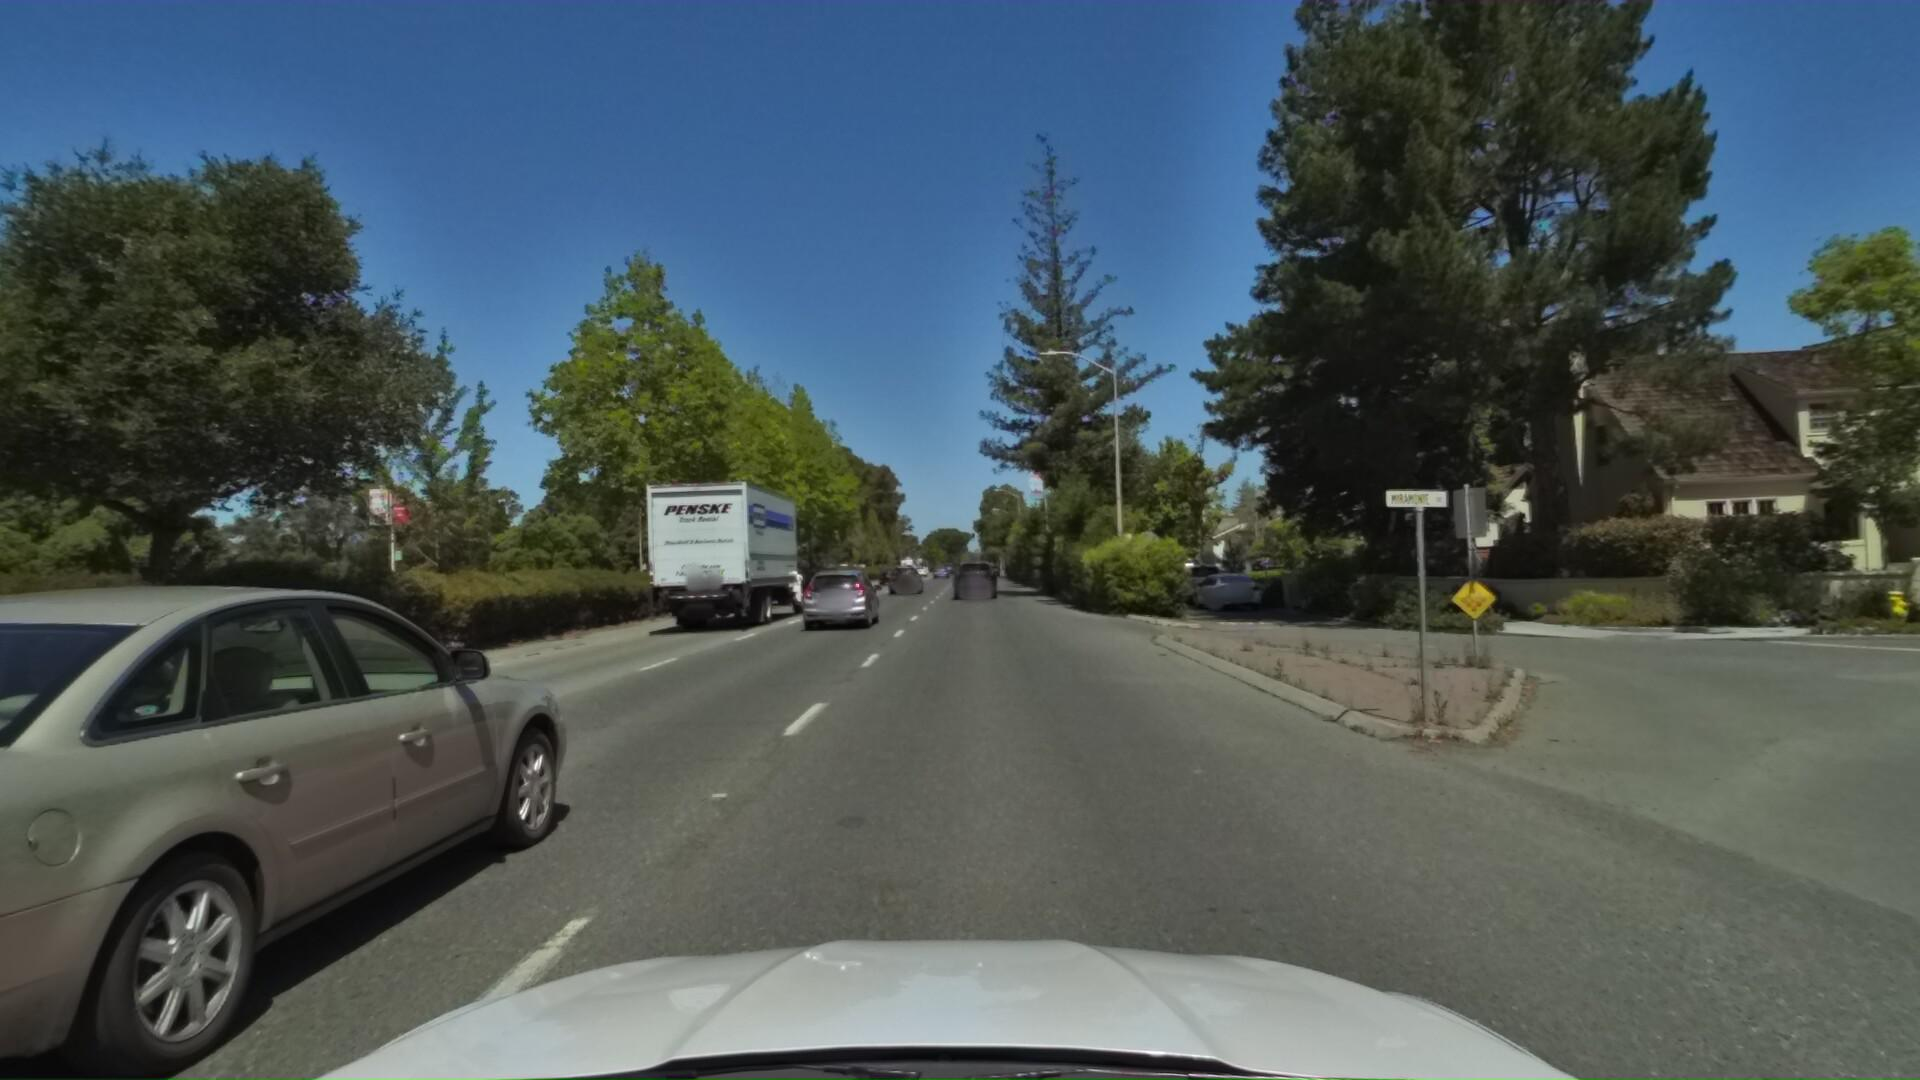car: (794, 566, 884, 634), (1189, 567, 1269, 617), (1167, 560, 1241, 608), (945, 556, 1000, 603), (880, 560, 924, 597), (874, 564, 903, 585)
truck: (636, 473, 820, 640)
